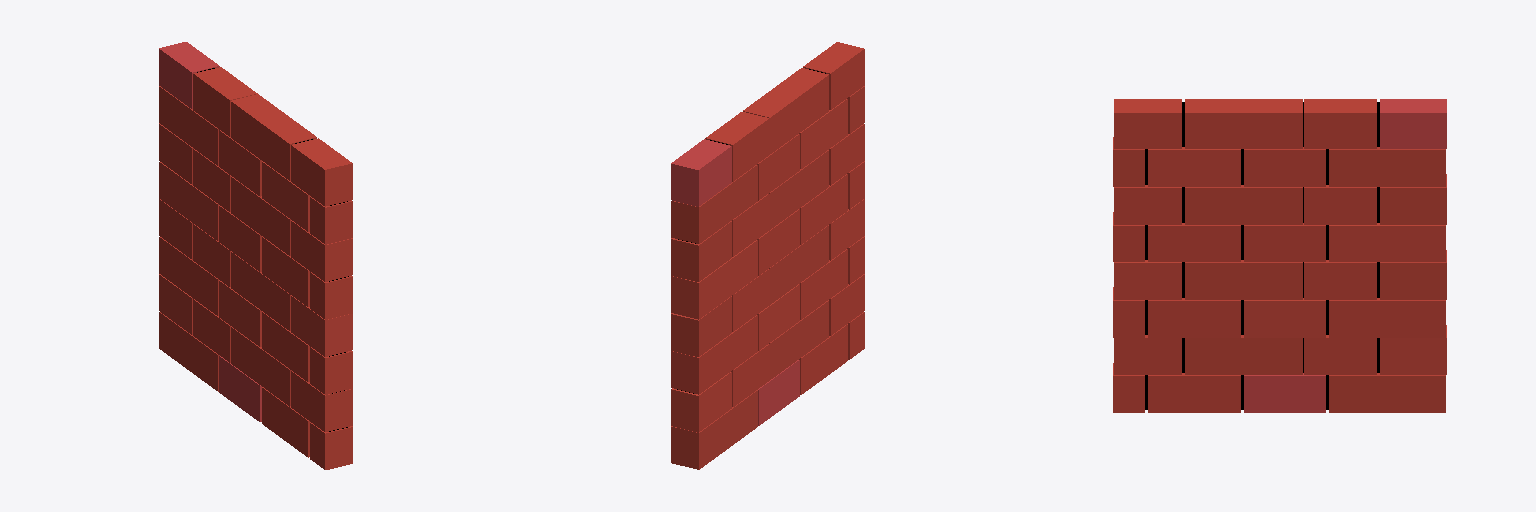
The model's file is cafeWall1.obj.
3 renders of one model, left to right at view 1: azimuth 30°, elevation 25°; view 2: azimuth 150°, elevation 25°; view 3: azimuth 270°, elevation 25°, orthographic.
Visible parts, largest first — view 1: CreamWall.002_Cube.185; view 2: CreamWall.002_Cube.185; view 3: CreamWall.002_Cube.185.
Part boxes in pixels (x1,y1,x2,y2): CreamWall.002_Cube.185: (159, 42, 352, 469); CreamWall.002_Cube.185: (671, 42, 864, 469); CreamWall.002_Cube.185: (1113, 99, 1446, 412).
Bounding box in the file's own units: 0.0975 × 1.01 × 1.01.